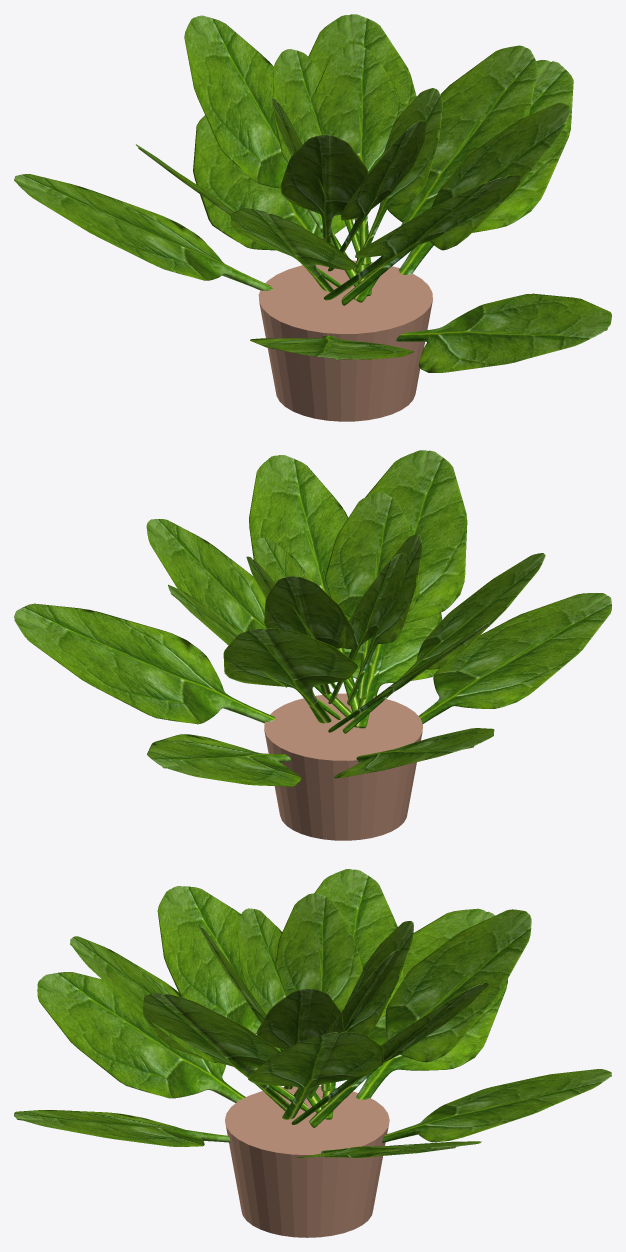
The model's file is spinach_plant.fbx.
3 renders of one model, top to bottom at view 1: azimuth 30°, elevation 25°; view 2: azimuth 150°, elevation 25°; view 3: azimuth 270°, elevation 25°, orthographic. The views are drawn at different scales.
Visible parts, largest first — view 1: SpinachPot, SpinachLeaf1.006, SpinachLeaf1.004, SpinachLeaf1.011, SpinachLeaf1.002, SpinachLeaf1.018, SpinachLeaf1.010, SpinachLeaf1.001, SpinachLeaf1.015, SpinachLeaf1.005, SpinachLeaf1.009, SpinachLeaf1.008 (+7 smaller); view 2: SpinachPot, SpinachLeaf1.005, SpinachLeaf1.003, SpinachLeaf1.009, SpinachLeaf1.010, SpinachLeaf1.011, SpinachLeaf1.016, SpinachLeaf1.006, SpinachLeaf1.001, SpinachLeaf1.008, SpinachLeaf1.013, SpinachLeaf1.014 (+7 smaller); view 3: SpinachPot, SpinachLeaf1.003, SpinachLeaf1.006, SpinachLeaf1.008, SpinachLeaf1.014, SpinachLeaf1.001, SpinachLeaf1.010, SpinachLeaf1.011, SpinachLeaf1.002, SpinachLeaf1.007, SpinachLeaf1.004, SpinachLeaf1.009 (+7 smaller).
Part boxes in pixels (x1,y1,x2,y2): SpinachPot: (258, 260, 432, 421); SpinachLeaf1.006: (184, 15, 357, 286); SpinachLeaf1.004: (396, 293, 611, 372); SpinachLeaf1.011: (354, 45, 537, 302); SpinachLeaf1.002: (14, 174, 272, 290); SpinachLeaf1.018: (315, 44, 402, 264); SpinachLeaf1.010: (341, 102, 570, 305); SpinachLeaf1.001: (193, 115, 354, 250); SpinachLeaf1.015: (280, 134, 368, 243); SpinachLeaf1.005: (387, 60, 573, 275); SpinachLeaf1.009: (323, 175, 520, 300); SpinachLeaf1.008: (230, 208, 357, 292); SpinachPot: (264, 693, 422, 840); SpinachLeaf1.005: (14, 603, 275, 724); SpinachLeaf1.003: (418, 593, 611, 723); SpinachLeaf1.009: (354, 450, 467, 728); SpinachLeaf1.010: (249, 455, 359, 718); SpinachLeaf1.011: (146, 519, 352, 716); SpinachLeaf1.016: (325, 492, 420, 699); SpinachLeaf1.006: (223, 628, 357, 723); SpinachLeaf1.001: (147, 734, 301, 786); SpinachLeaf1.008: (342, 553, 545, 733); SpinachLeaf1.013: (264, 576, 354, 694); SpinachLeaf1.014: (328, 552, 406, 703); SpinachPot: (225, 1086, 389, 1237); SpinachLeaf1.003: (37, 972, 245, 1103); SpinachLeaf1.006: (309, 909, 531, 1127); SpinachLeaf1.008: (157, 886, 321, 1112); SpinachLeaf1.014: (276, 893, 362, 1091); SpinachLeaf1.001: (382, 1069, 611, 1142); SpinachLeaf1.010: (142, 993, 289, 1111); SpinachLeaf1.011: (248, 1031, 383, 1119); SpinachLeaf1.002: (356, 908, 507, 1099); SpinachLeaf1.007: (314, 869, 403, 1119); SpinachLeaf1.004: (14, 1110, 230, 1146); SpinachLeaf1.009: (70, 936, 308, 1111).
Bounding box in the file's own units: 0.3476 × 0.1941 × 0.3626.
Materials: 3 (1 with a texture image).
